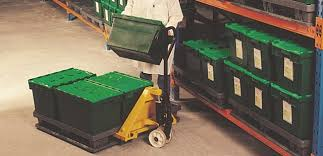Pallet Jack: (38, 26, 177, 152)
